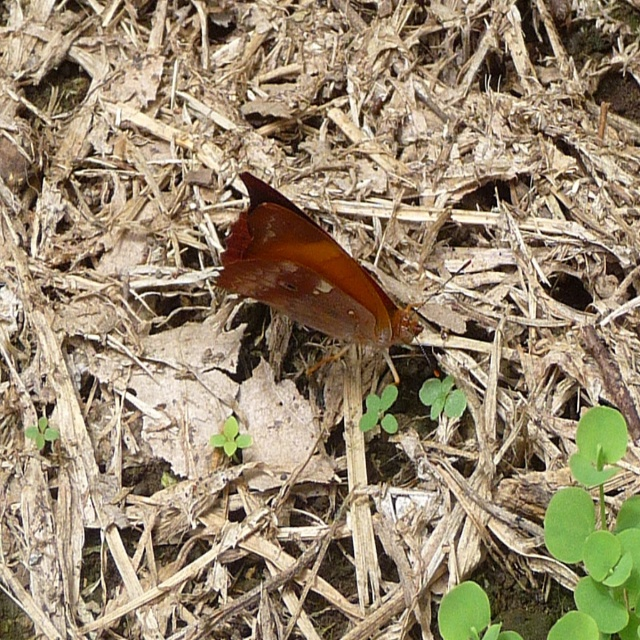Butterfly: (195, 166, 443, 376)
